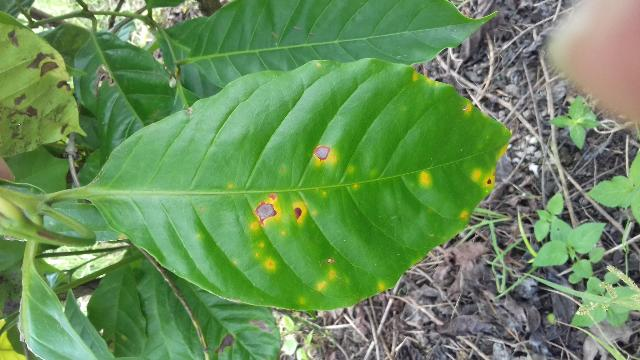rust_level_2: (50, 52, 524, 310)
